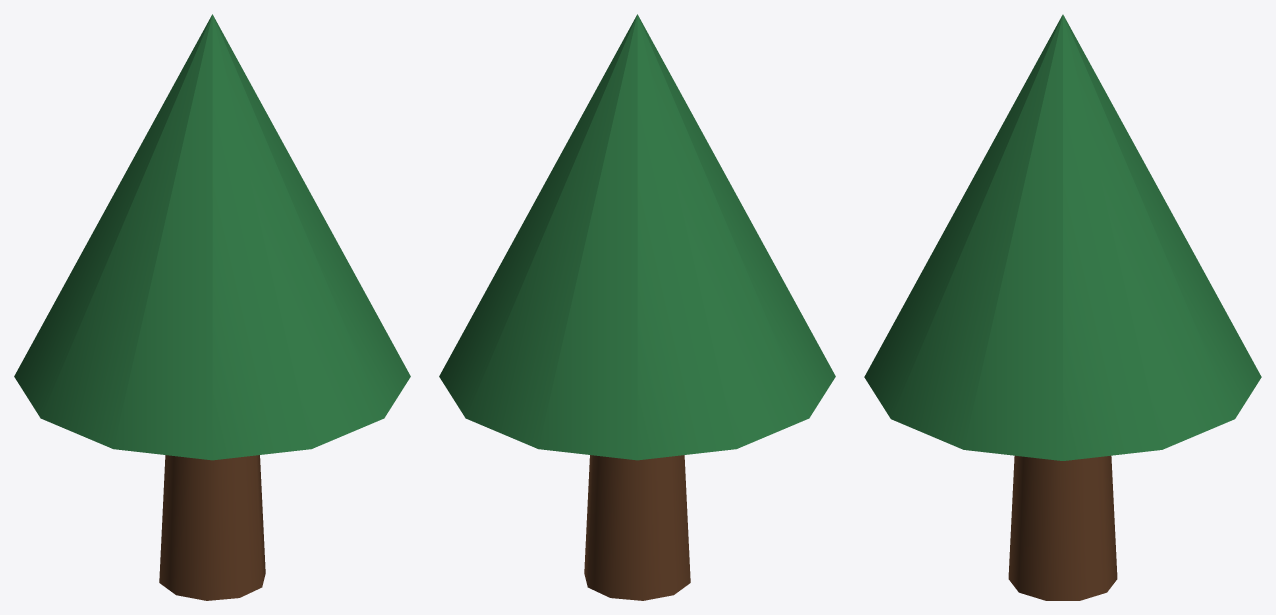
File: tree.glb
3 views of the same model, side by side, from view 1: azimuth 30°, elevation 25°; view 2: azimuth 150°, elevation 25°; view 3: azimuth 270°, elevation 25° (orthographic).
Bounding box in the file's own units: 1.24 × 1.94 × 1.24.
